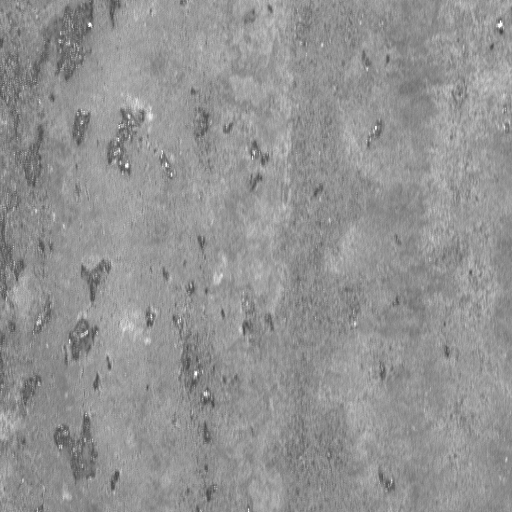xingxingliewen: (66, 256, 113, 391), (70, 103, 146, 177), (53, 412, 100, 484)
